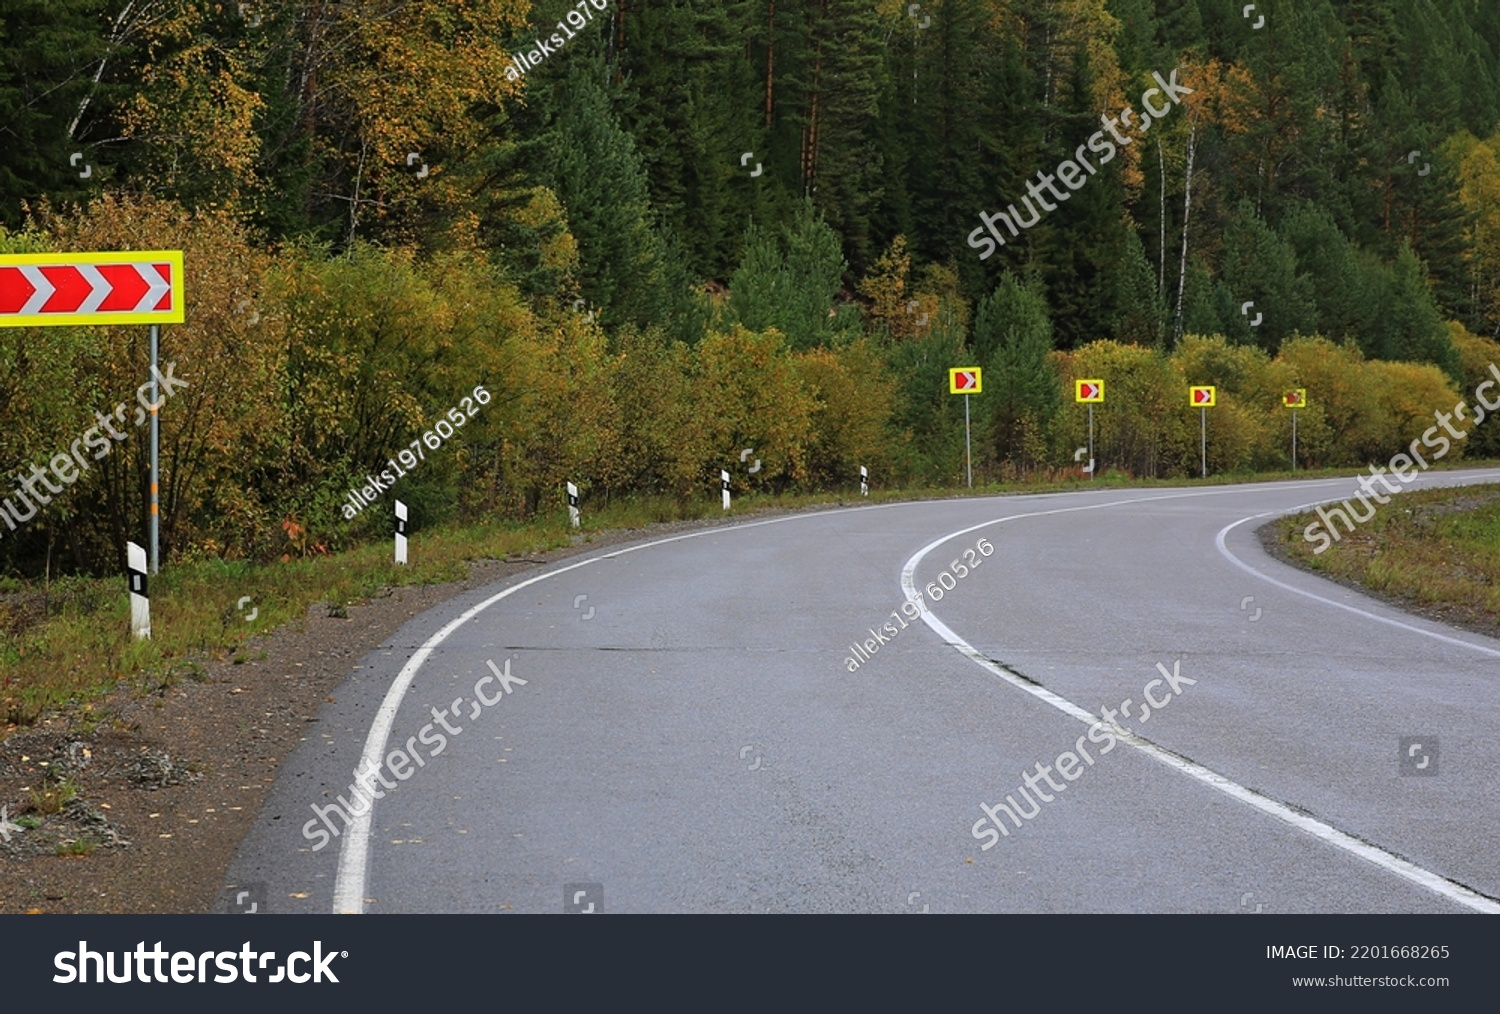rightTrun: (629, 449, 1269, 908)
